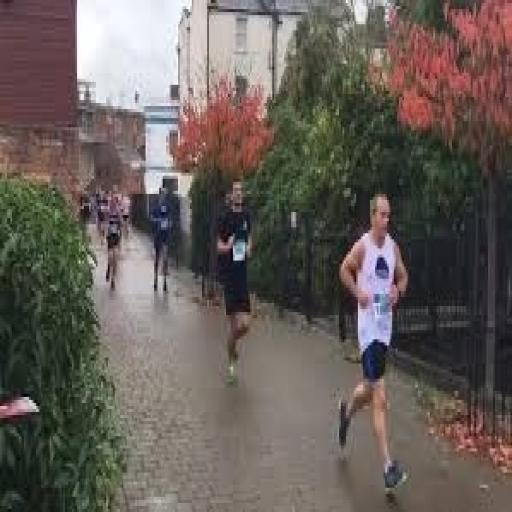running: (334, 188, 413, 500), (212, 176, 258, 391)
